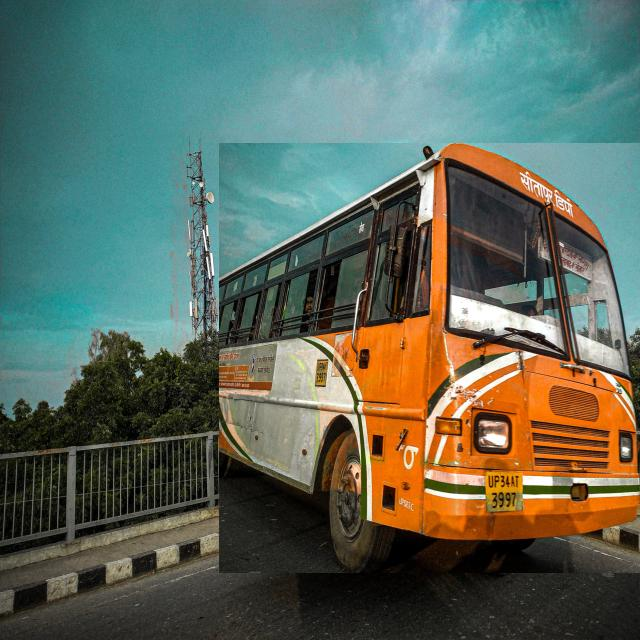bus: (219, 144, 640, 573)
